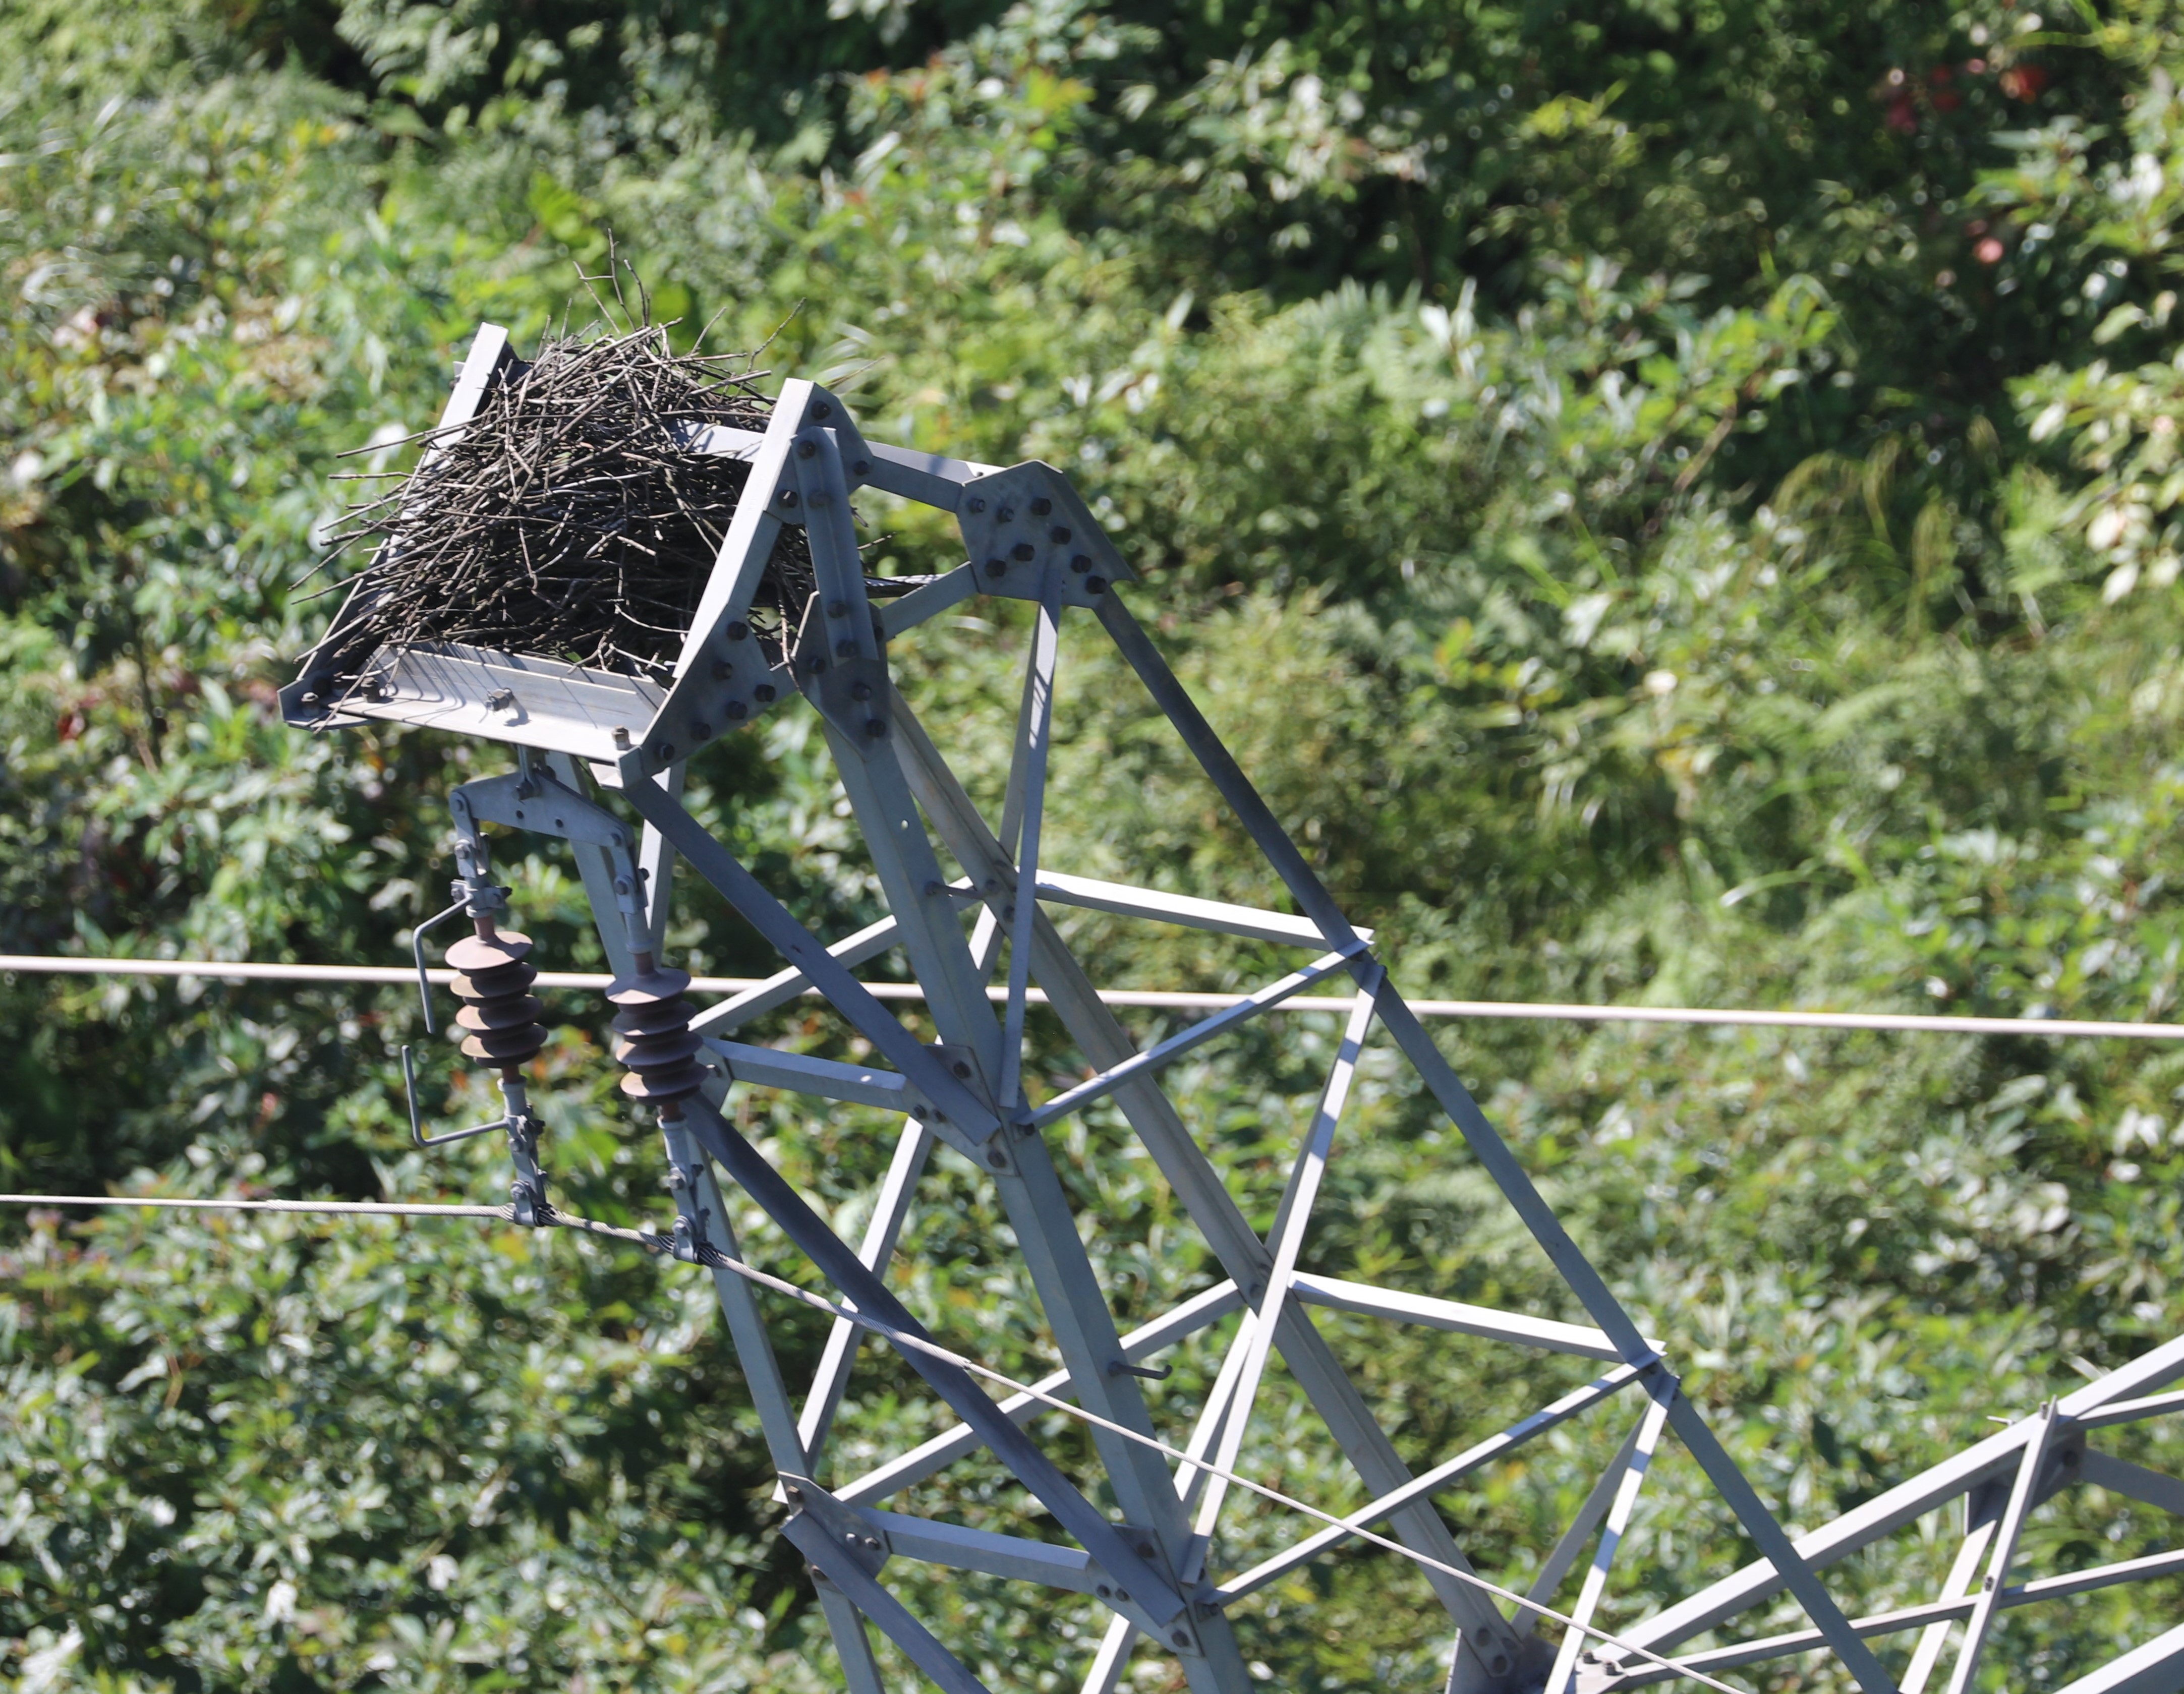niaowo: (300, 298, 849, 727)
